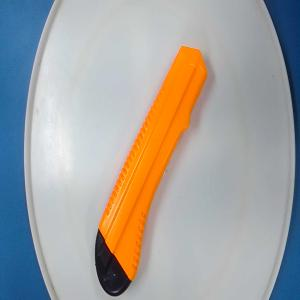estilete: (94, 45, 208, 297)
